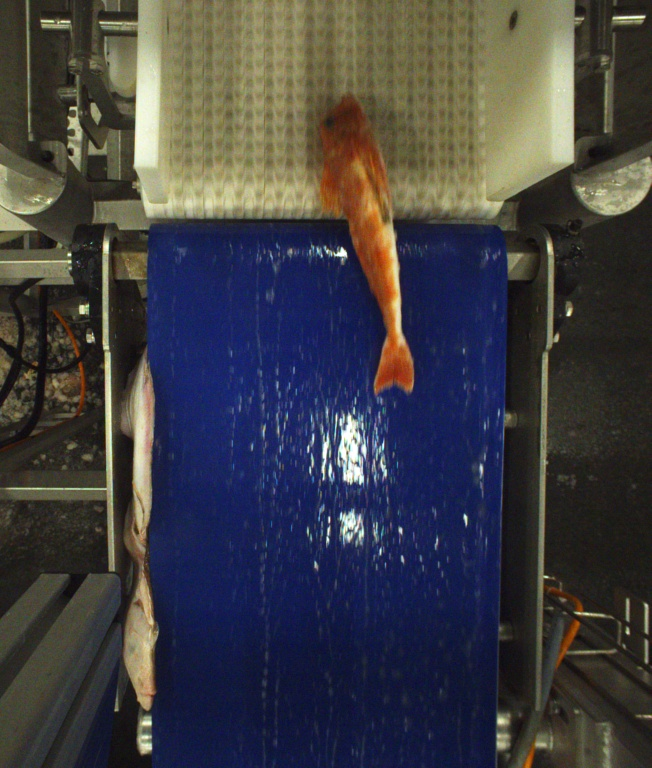GUU: (313, 92, 418, 395)
